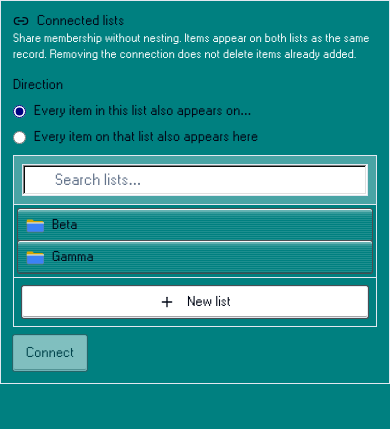
Test: ConnectedListsEditor › renders a searchable row picker and chips the pending target
Type "gam" into the field labelled "Search lists" at (195, 180), box x1=22 y1=164 x2=368 y2=196
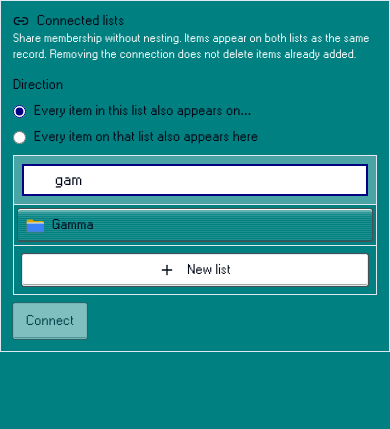
Check: the button "Beta" is gone
Click the button "Gamma" at (73, 224), box x1=18 y1=209 x2=372 y2=241
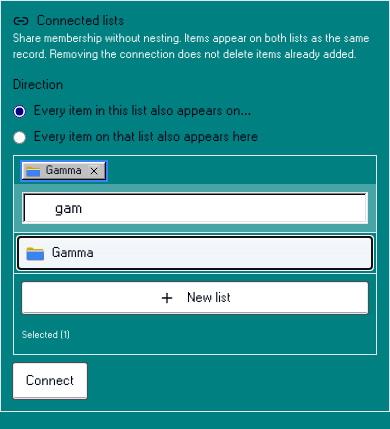
Check: the button named "Remove Gamma" is shown, box x1=88 y1=165 x2=100 y2=177
Check: the text "Selected (1)" is shown, box x1=22 y1=330 x2=70 y2=340
